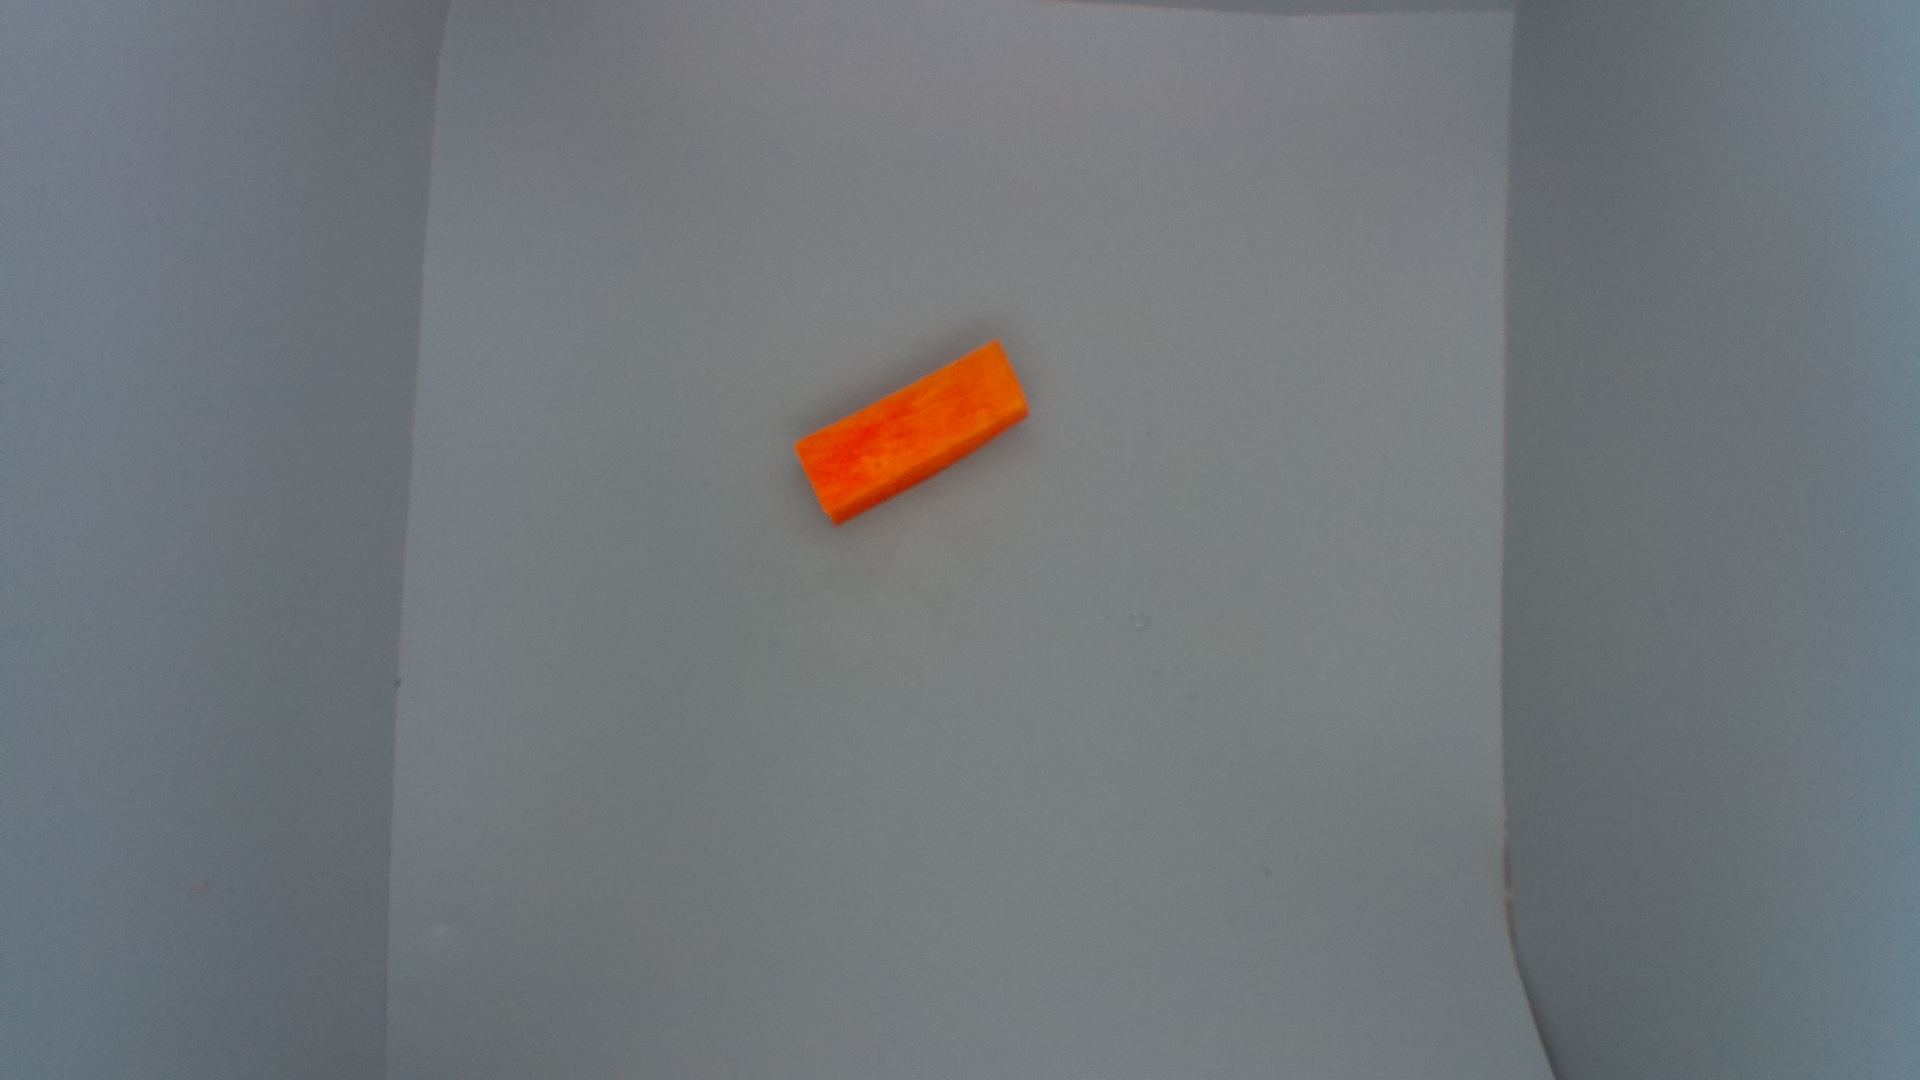carrot: (793, 334, 1033, 527)
